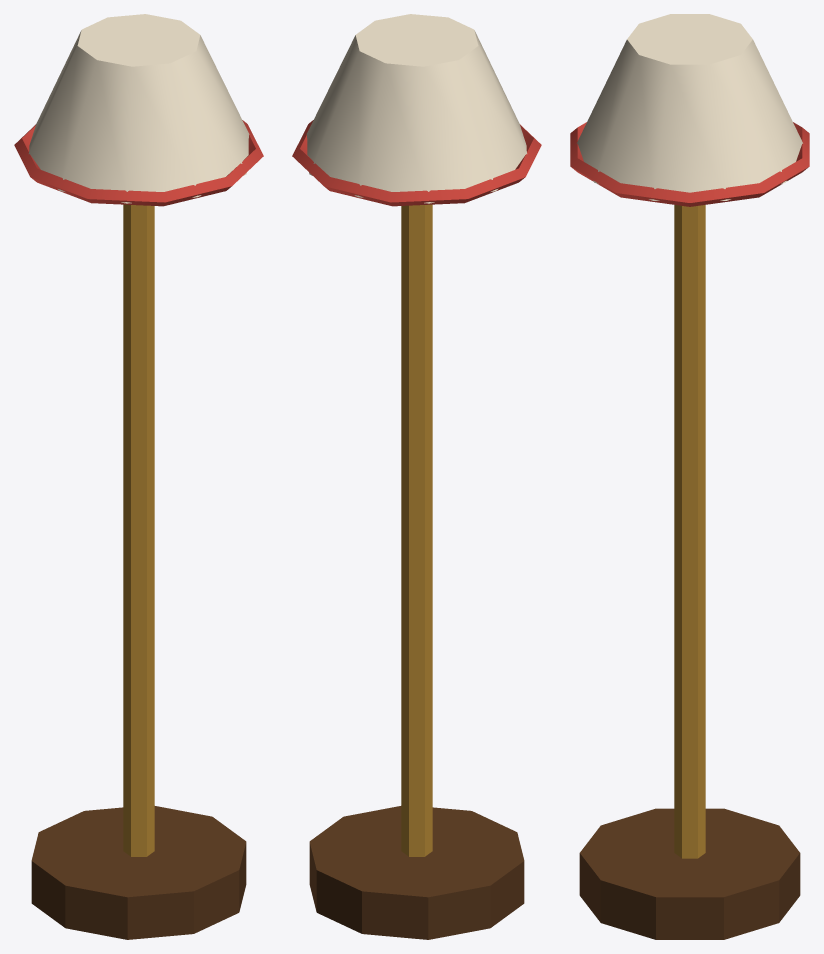
The model's file is PR_Inn_Lamba.fbx.
3 views of the same model, side by side, from view 1: azimuth 30°, elevation 25°; view 2: azimuth 150°, elevation 25°; view 3: azimuth 270°, elevation 25° (orthographic).
Parts seen in each view (by area): view 1: PR_Inn_Lamba; view 2: PR_Inn_Lamba; view 3: PR_Inn_Lamba.
Part boxes in pixels (x1,y1,x2,y2): PR_Inn_Lamba: (14,14,263,939); PR_Inn_Lamba: (292,14,541,939); PR_Inn_Lamba: (570,14,809,939).
Size of the model in its own units: 0.32 by 1.2 by 0.3043.
